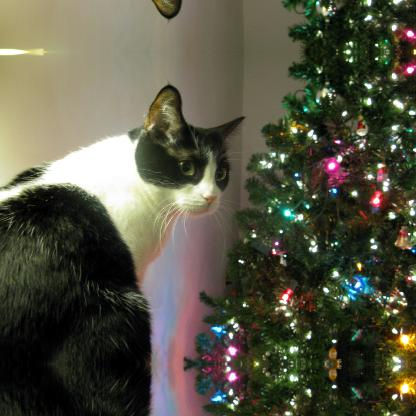Cat: (0, 81, 246, 363)
